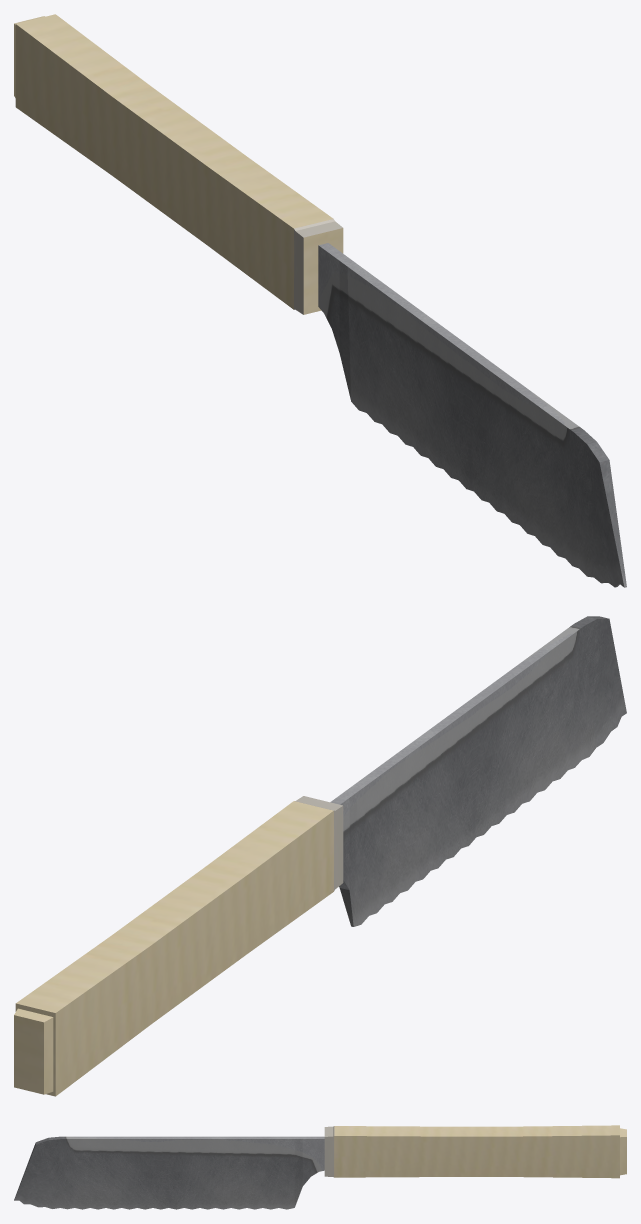
File: Sierra.fbx
The picture shows the model from 3 angles, top to bottom: view 1: azimuth 30°, elevation 25°; view 2: azimuth 150°, elevation 25°; view 3: azimuth 270°, elevation 25°; orthographic projection. The views are drawn at different scales.
Visible parts, largest first — view 1: Cube.001, Cube; view 2: Cube.001, Cube; view 3: Cube.001, Cube.
Part boxes in pixels (x1,y1,x2,y2): Cube.001: (318, 243, 626, 587); Cube: (14, 14, 343, 314); Cube.001: (330, 616, 626, 926); Cube: (14, 796, 343, 1096); Cube.001: (14, 1136, 324, 1209); Cube: (324, 1125, 626, 1178).
Bounding box in the file's own units: 4 × 14.72 × 104.
